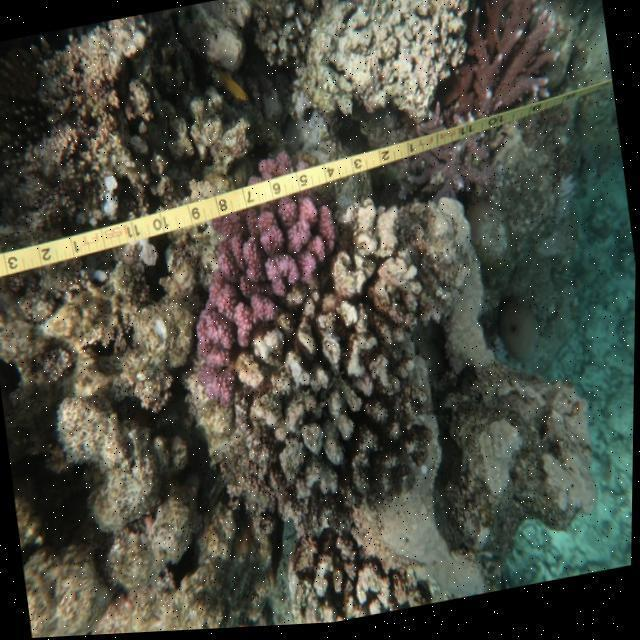Healthy Coral: (180, 191, 318, 400), (433, 0, 568, 137)
